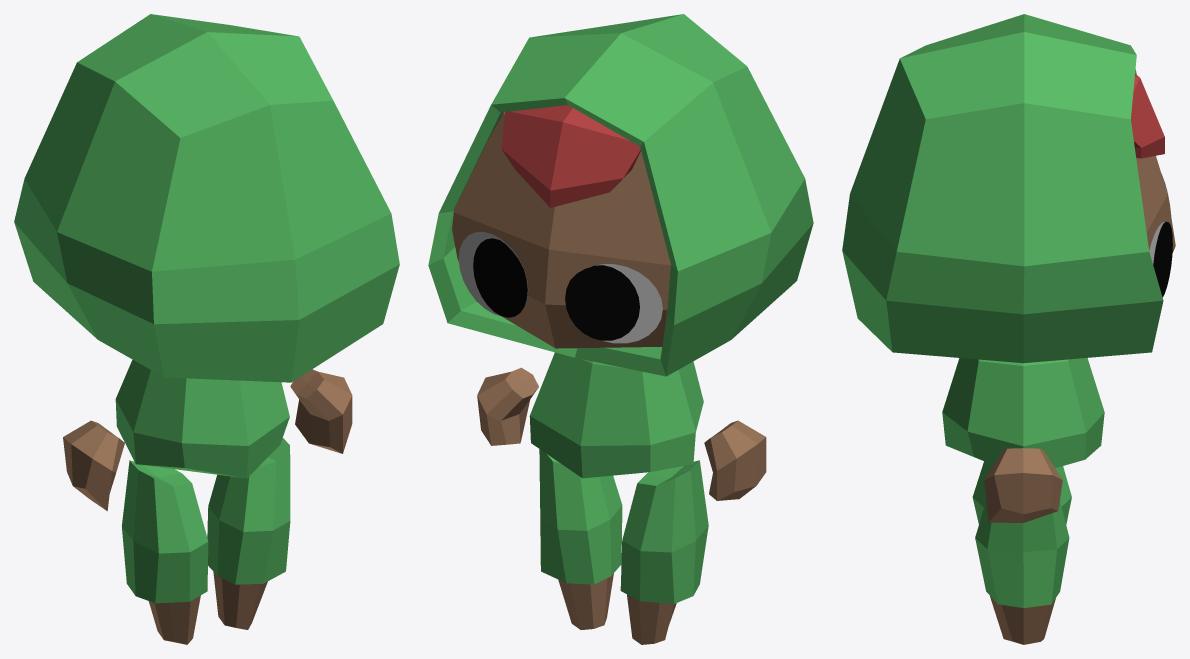
Rendered from Character_b.fbx.
3 views of the same model, side by side, from view 1: azimuth 30°, elevation 25°; view 2: azimuth 150°, elevation 25°; view 3: azimuth 270°, elevation 25° (orthographic).
Visible parts, largest first — view 1: Character_b_hood, Character_b_body, Character_b_leg_left, Character_b_leg_right, Character_b_hand_right, Character_b_hand_left; view 2: Character_b_hood, Character_b_head, Character_b_body, Character_b_leg_left, Character_b_leg_right, Character_b_hair, Character_b_eyes_black, Character_b_hand_left, Character_b_hand_right, Character_b_eyes_white; view 3: Character_b_hood, Character_b_body, Character_b_leg_right, Character_b_hand_right, Character_b_head, Character_b_hair, Character_b_eyes_black, Character_b_leg_left.
Part boxes in pixels (<box>): Character_b_hood: <box>14,14,399,382</box>; Character_b_body: <box>115,359,289,478</box>; Character_b_leg_left: <box>121,460,208,644</box>; Character_b_leg_right: <box>207,438,290,629</box>; Character_b_hand_right: <box>290,369,352,453</box>; Character_b_hand_left: <box>63,420,124,511</box>; Character_b_hood: <box>428,14,813,376</box>; Character_b_head: <box>452,112,670,348</box>; Character_b_body: <box>529,352,703,478</box>; Character_b_leg_left: <box>620,460,708,644</box>; Character_b_leg_right: <box>539,449,622,629</box>; Character_b_hair: <box>501,105,640,207</box>; Character_b_eyes_black: <box>473,238,639,340</box>; Character_b_hand_left: <box>704,420,766,500</box>; Character_b_hand_right: <box>477,367,538,445</box>; Character_b_eyes_white: <box>458,232,662,343</box>; Character_b_hood: <box>842,14,1163,363</box>; Character_b_body: <box>942,358,1104,468</box>; Character_b_leg_right: <box>975,501,1069,644</box>; Character_b_hand_right: <box>984,448,1062,522</box>; Character_b_head: <box>1136,156,1175,252</box>; Character_b_hair: <box>1131,74,1164,158</box>; Character_b_eyes_black: <box>1153,221,1172,297</box>; Character_b_leg_left: <box>972,461,1071,524</box>.
Size of the model in its own units: 151 by 288 by 146.
